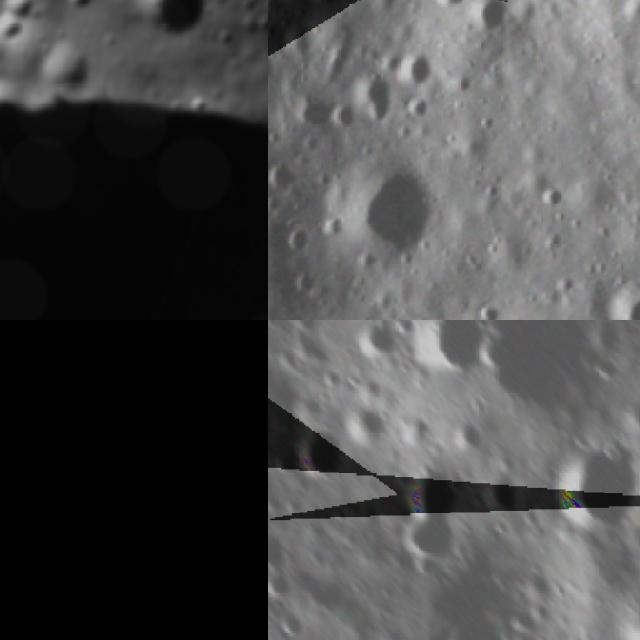crater: (0, 0, 268, 320), (316, 131, 470, 287), (548, 432, 640, 537), (326, 37, 420, 133), (273, 65, 364, 147), (115, 0, 228, 55), (0, 347, 71, 423), (415, 320, 492, 384), (394, 510, 465, 578), (388, 458, 459, 516), (456, 0, 528, 48), (440, 603, 527, 640), (274, 214, 324, 268), (294, 430, 350, 478), (268, 150, 309, 205), (349, 320, 401, 362), (530, 174, 573, 218), (0, 5, 32, 56), (293, 0, 359, 23), (273, 601, 308, 640), (0, 0, 47, 28), (268, 529, 299, 569), (268, 567, 301, 604), (417, 0, 477, 20), (56, 0, 100, 21), (287, 320, 326, 336)
